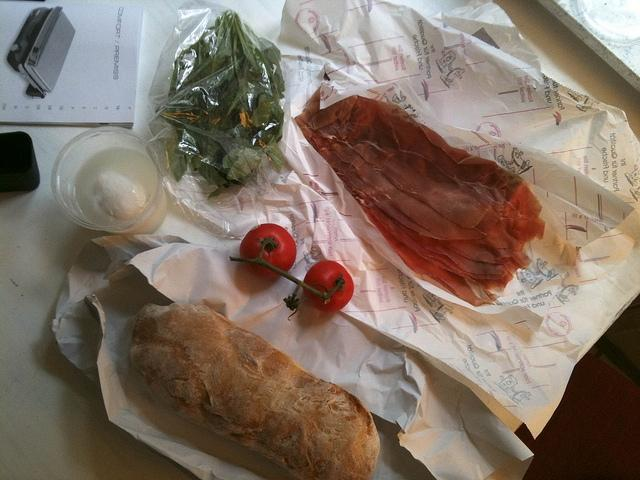tomato: (240, 223, 296, 279), (304, 260, 354, 313)
